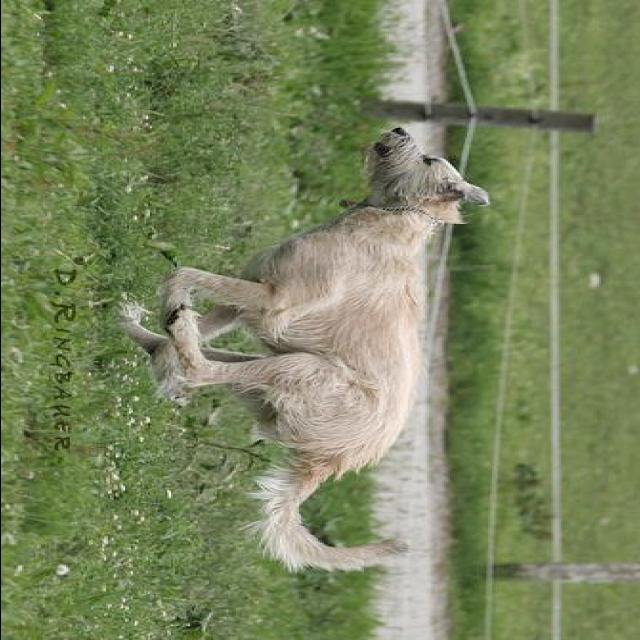irish_wolfhound: (113, 124, 493, 570)
